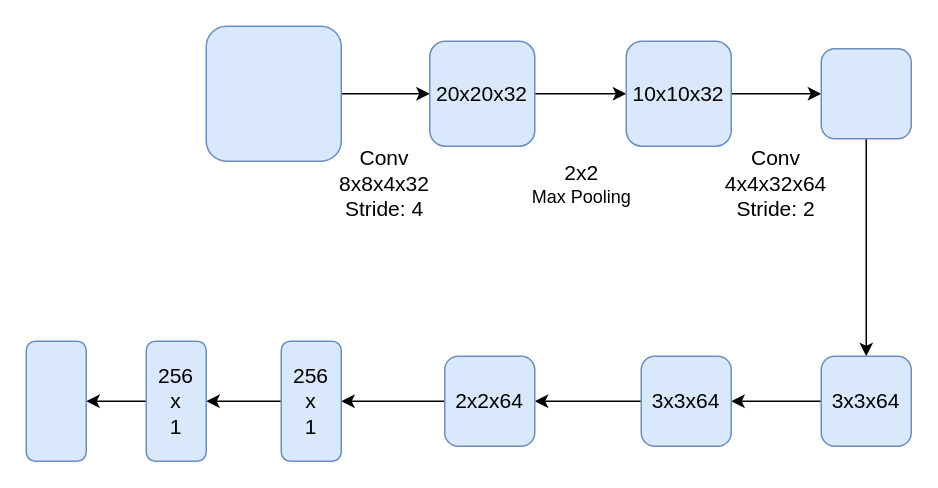
Some shapes in this 938 by 488 pixel diagram are drawn without their labels. The centre of each missing label's shape, as x and y in pixels:
"2 x 1" belongs at [55,400].
"5x5x64" belongs at [865,93].
"80x80x4" belongs at [273,93].
